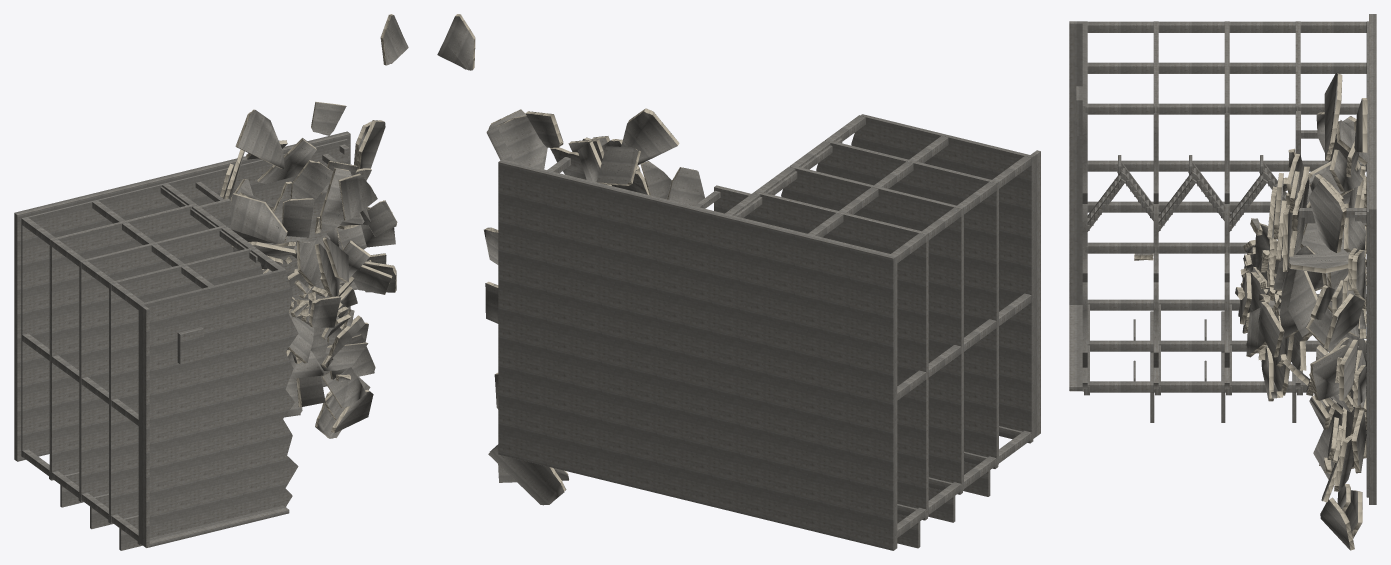
The model's file is visual_concrete.glb.
The picture shows the model from 3 angles, left to right: view 1: azimuth 30°, elevation 25°; view 2: azimuth 150°, elevation 25°; view 3: azimuth 270°, elevation 25°; orthographic projection. The views are drawn at different scales.
Parts seen in each view (by area): view 1: Apartment_Concrete; view 2: Apartment_Concrete; view 3: Apartment_Concrete.
Part boxes in pixels (x1=…): Apartment_Concrete: x1=14, y1=14, x2=408, y2=550; Apartment_Concrete: x1=437, y1=14, x2=1040, y2=550; Apartment_Concrete: x1=1069, y1=14, x2=1376, y2=550.
Size of the model in its own units: 23.9 by 23.63 by 13.65.
4 materials, 1 textured.
